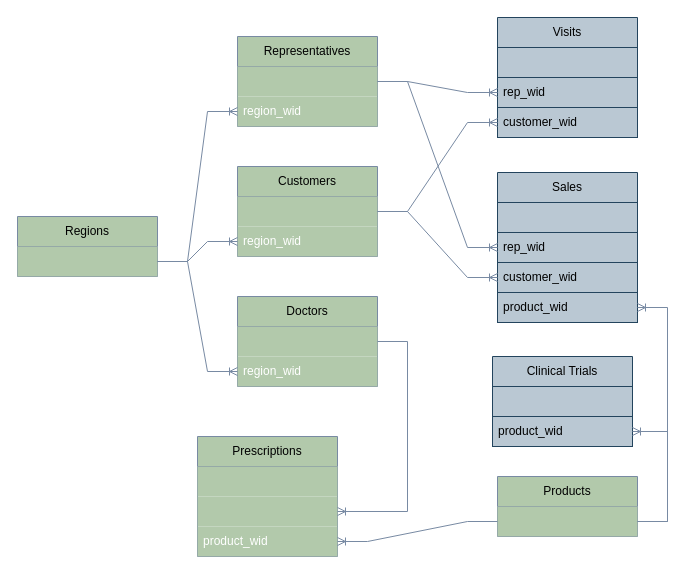
The diagram is 693 pixels wide and 574 high, and some of its shapes have lost their labels. Each missing label, with the centre of its shape:
"Customer Code" belongs at point (307, 211).
"Doctor Code" belongs at point (307, 341).
"doctor_wid" belongs at point (267, 511).
"Prescription Code" belongs at point (267, 481).
"Product Code" belongs at point (567, 521).
"Region Code" belongs at point (87, 261).
"Rep Code" belongs at point (307, 81).
"Sale Code" belongs at point (567, 217).
"Trial Code" belongs at point (562, 401).
"Visit Code" belongs at point (567, 62).
